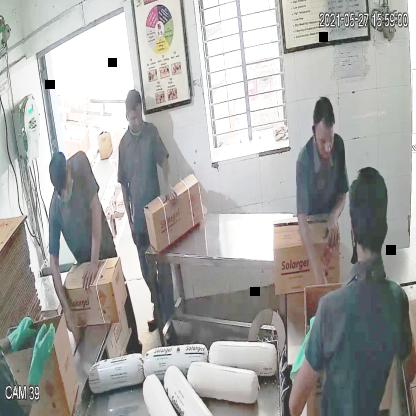no_goggles: (310, 127, 342, 153)
